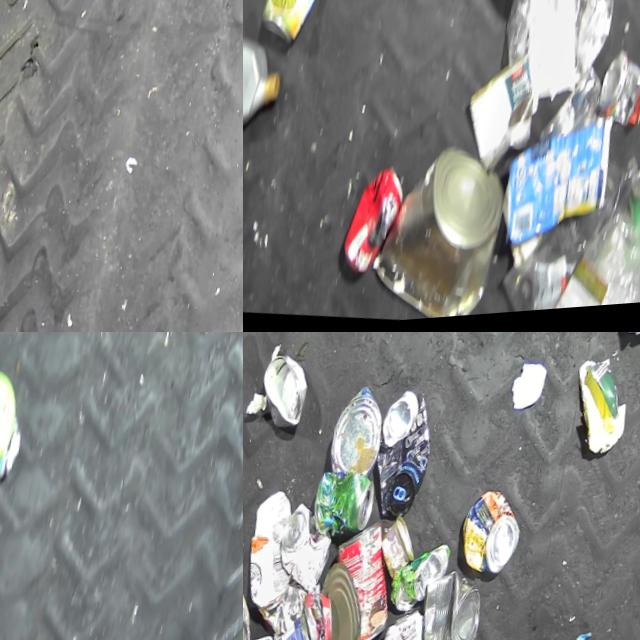can: (371, 138, 524, 327), (323, 519, 411, 640), (368, 389, 445, 525), (343, 154, 421, 284), (460, 491, 533, 584), (278, 501, 344, 600), (329, 385, 394, 481), (413, 569, 494, 640), (310, 562, 380, 640), (315, 469, 385, 545), (256, 348, 318, 432), (394, 542, 458, 621), (595, 40, 640, 149), (260, 0, 342, 48), (380, 517, 427, 585), (244, 608, 341, 640), (376, 609, 446, 640), (243, 590, 266, 640)
non_white_jug: (243, 22, 300, 147)
